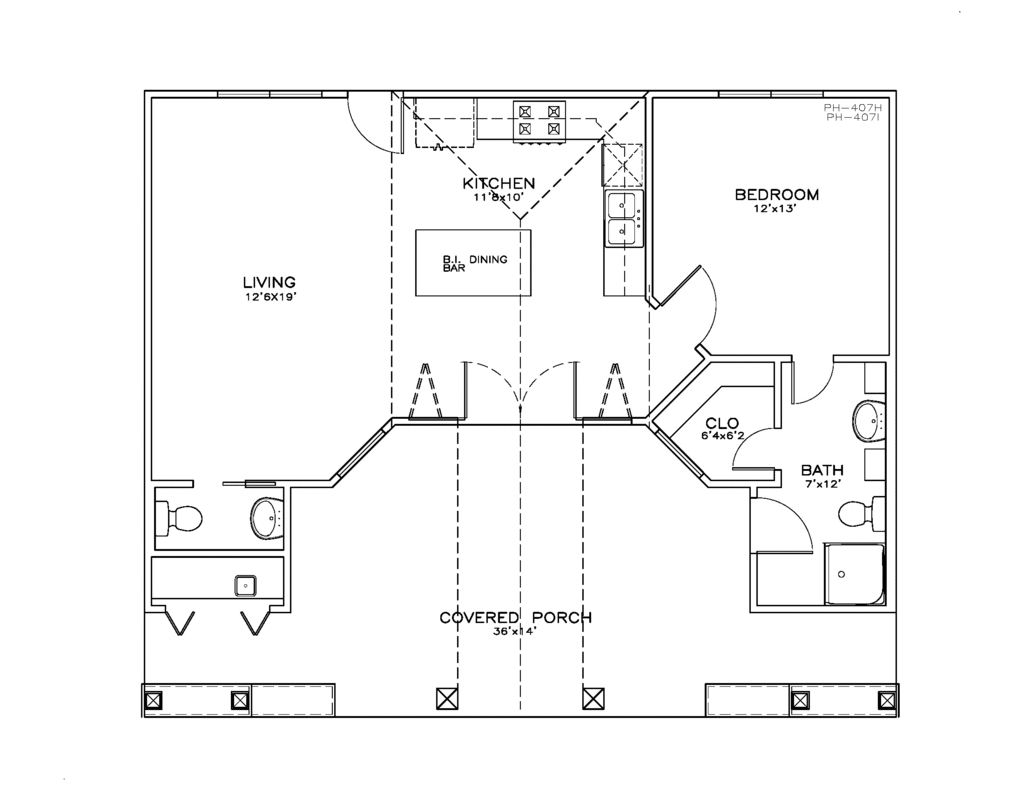door: (459, 348, 589, 429), (653, 261, 725, 348), (338, 85, 415, 154), (757, 497, 822, 557), (785, 354, 842, 414), (728, 420, 786, 474)
large_sink: (828, 480, 888, 544), (151, 494, 211, 550)
small_sink: (244, 495, 289, 538), (848, 401, 886, 448)
twin_sink: (604, 178, 648, 254)
window: (218, 84, 329, 104), (716, 86, 824, 106)
